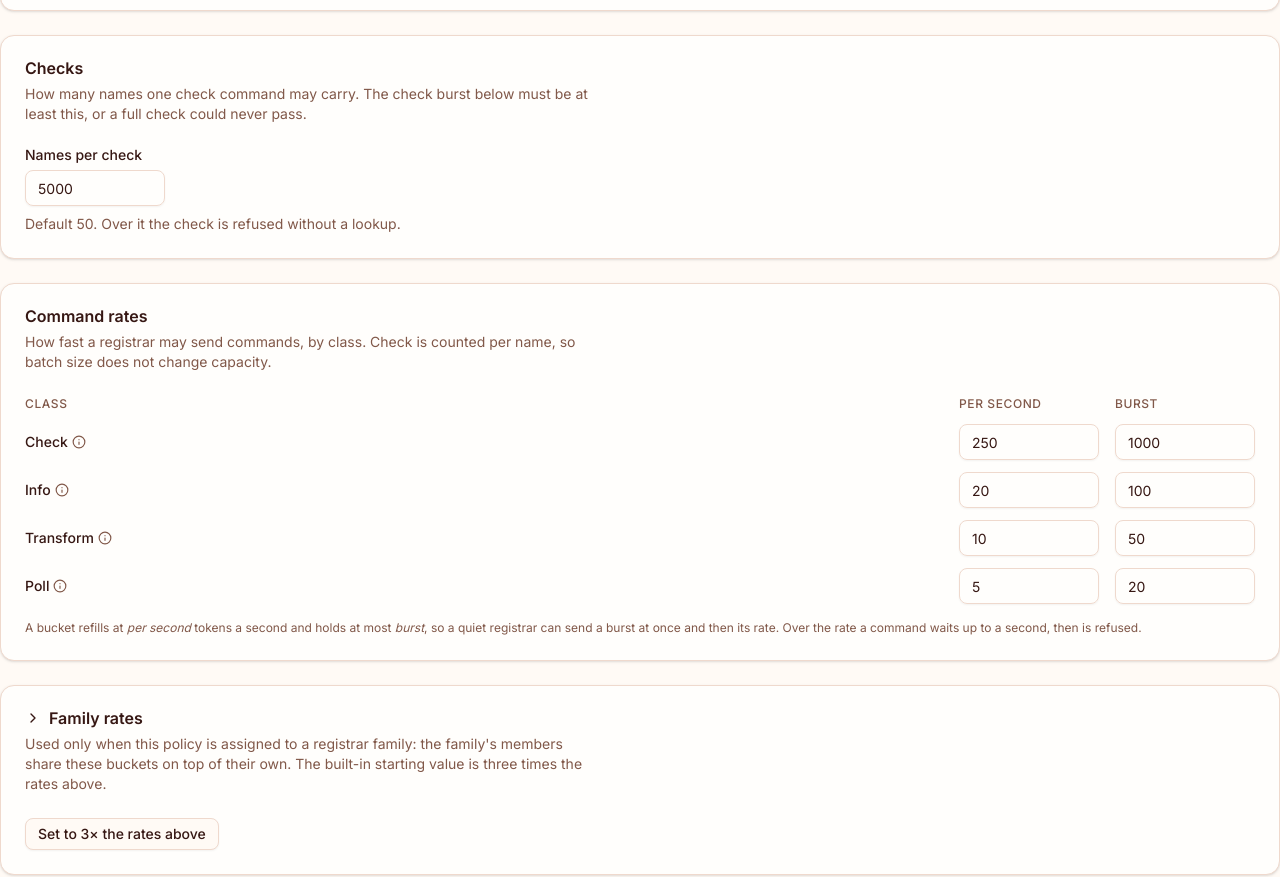
Test: PolicyForm › opens the family rates when they fail validation
(page scrolled)
Replace the text in the number field named "Check burst" with "5000" at {"x": 1185, "y": 442}, box left=1115, top=424, right=1255, bottom=460
(page scrolled)
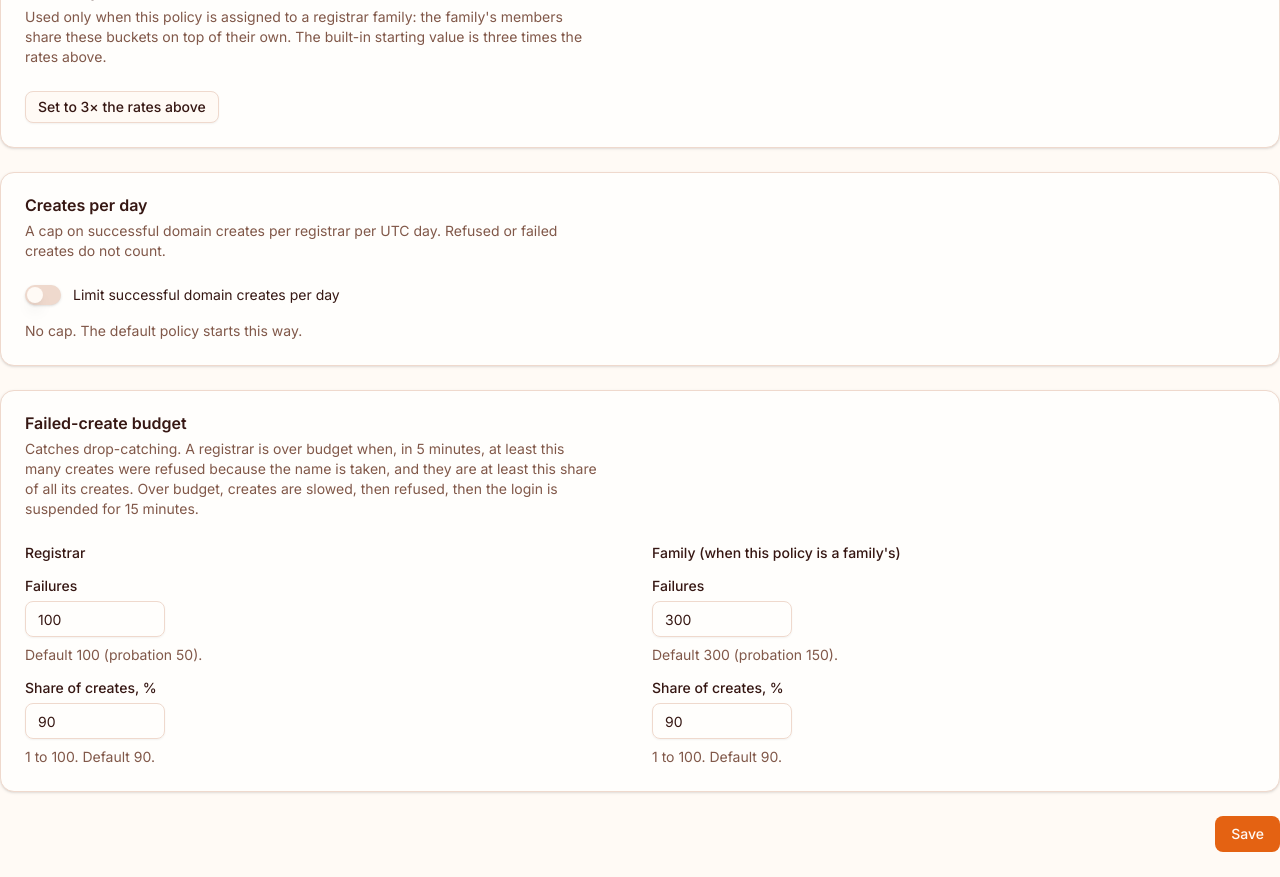
Click the button "Save".
click(1248, 834)  # box left=1215, top=816, right=1279, bottom=852
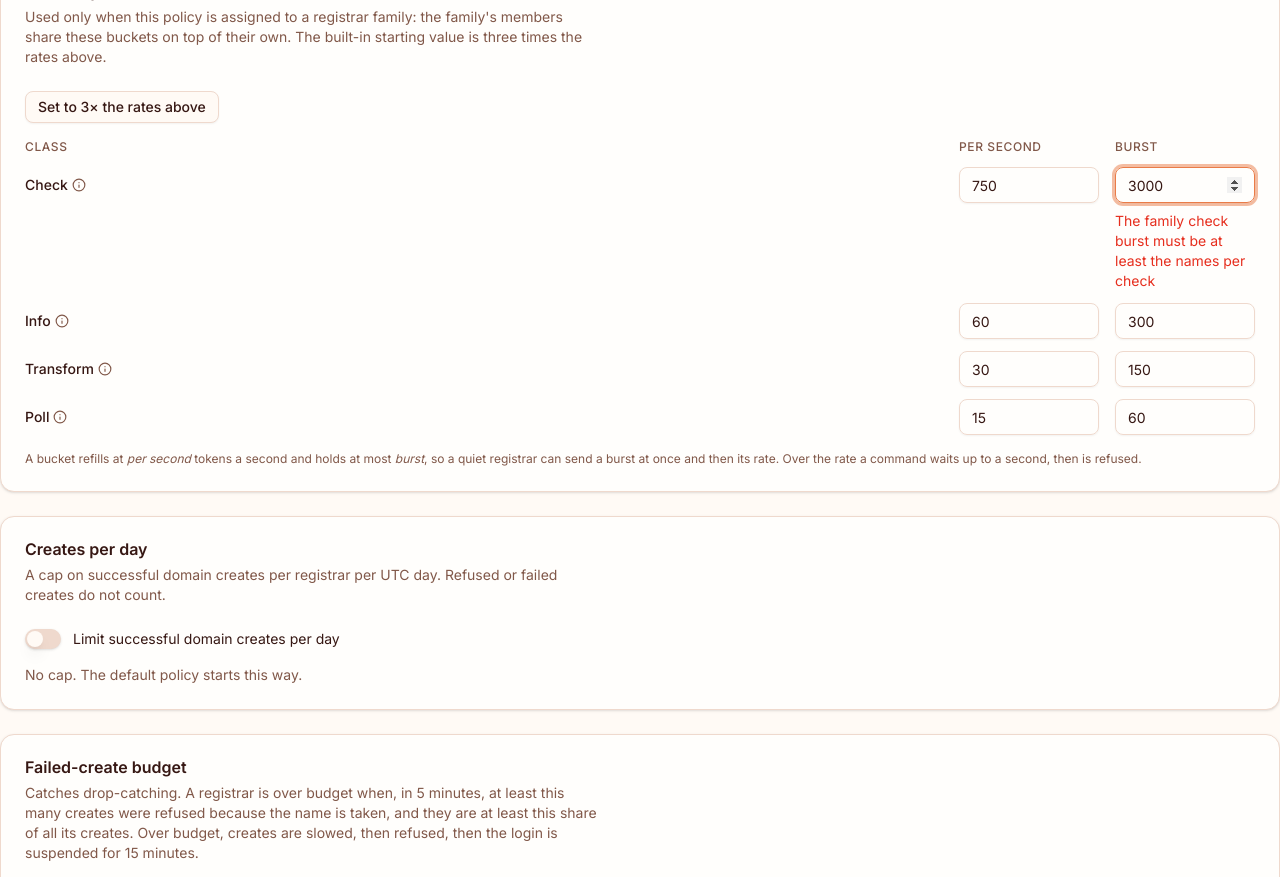
Expected: the text "The family check burst must be at least the names per check" is shown, left=1115, top=211, right=1255, bottom=291
